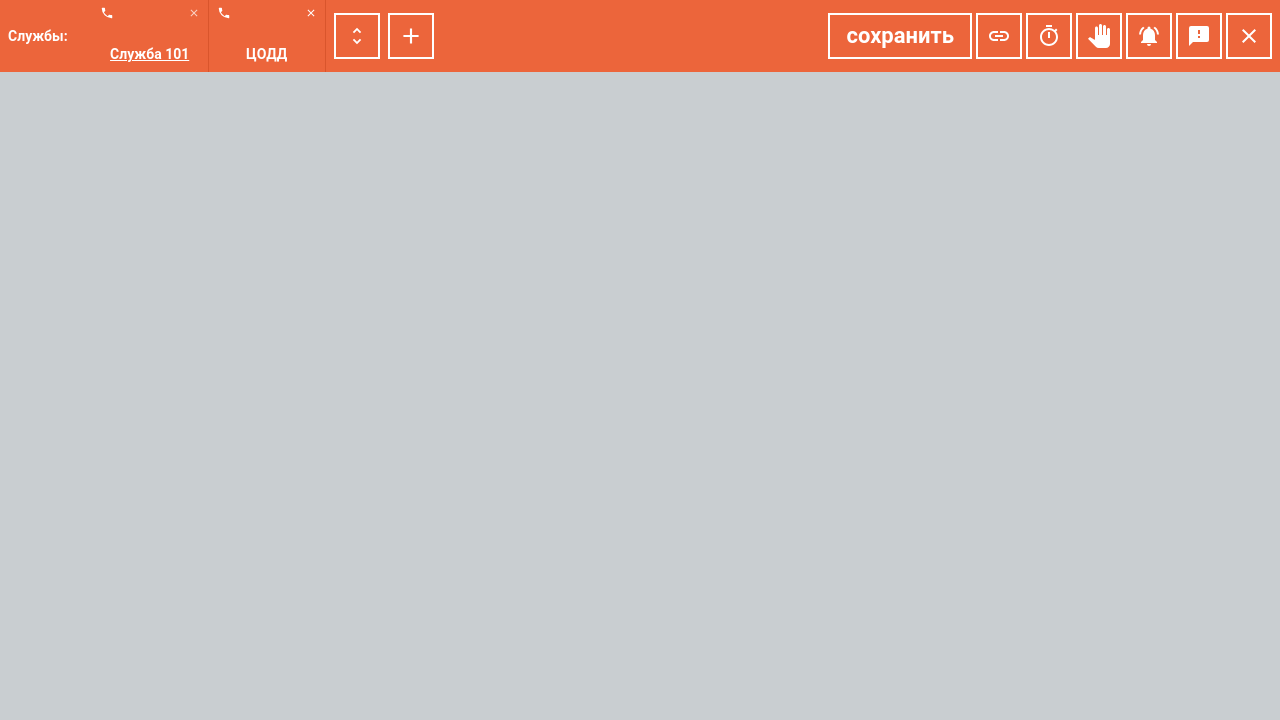
Test case: ServicesPanel › «+» → окно; «Сохранить и закрыть» передаёт выбранные службы, «×» — без изменений
Click the button named "Добавить службы".
click(411, 36)  # box [388,13,434,59]
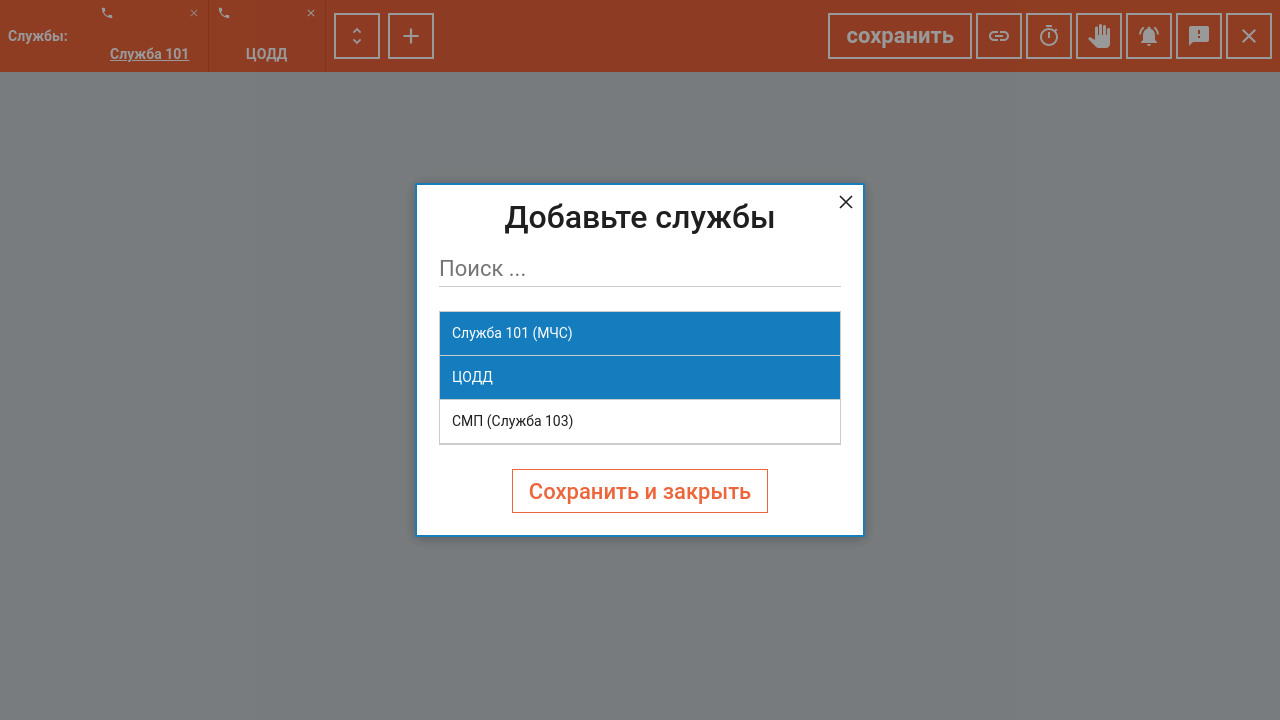
Click the button "СМП (Служба 103)".
click(513, 421)  # box [440,400,840,444]
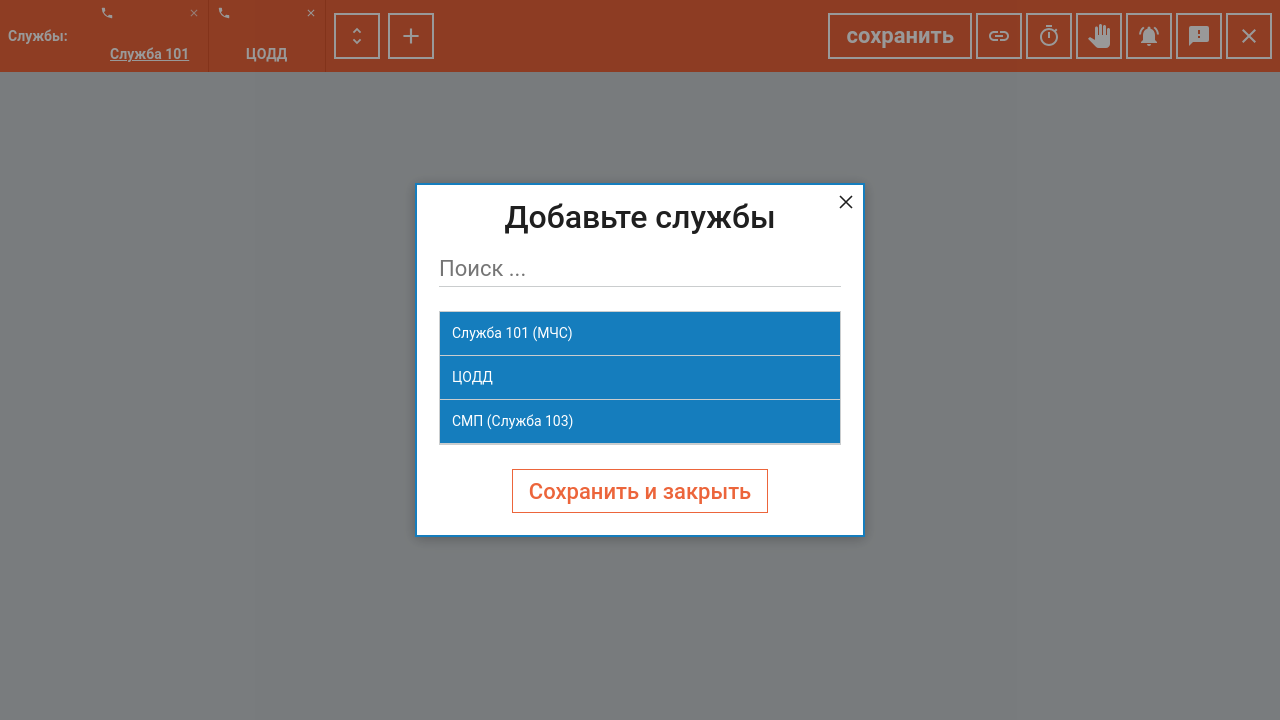
Click the button "Сохранить и закрыть".
click(640, 491)  # box [512,469,768,513]
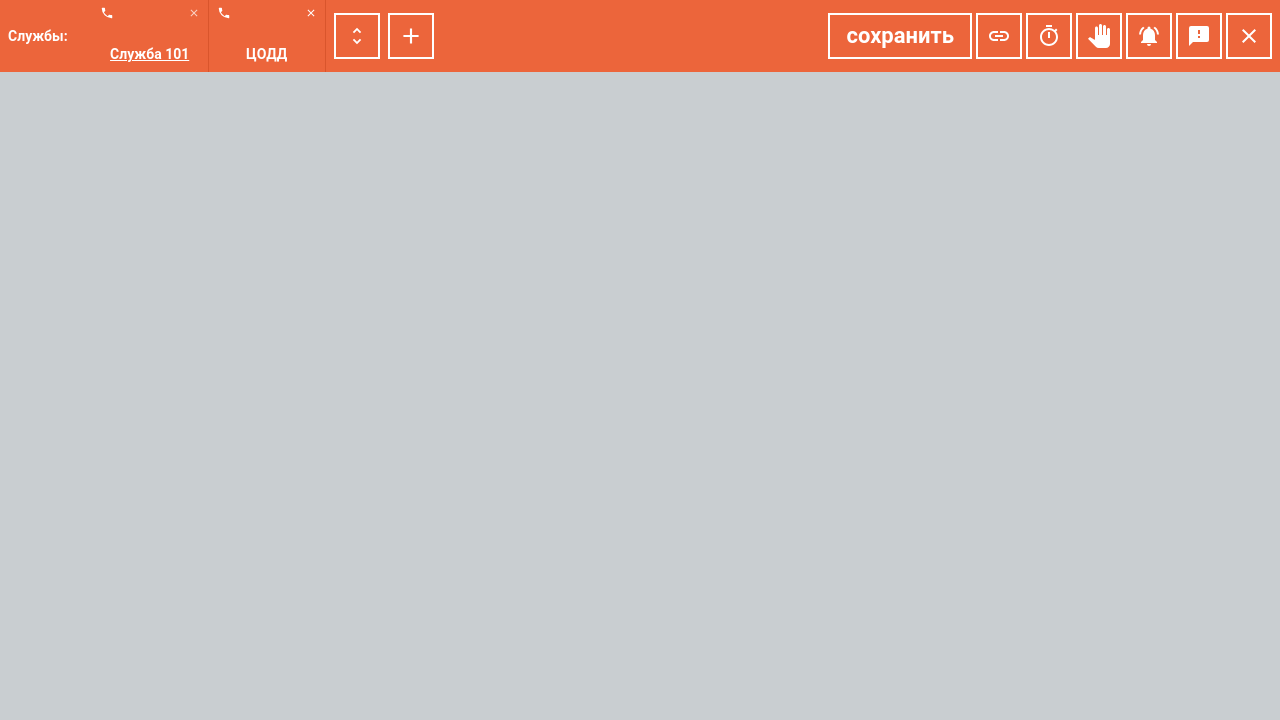
Click the button named "Добавить службы".
click(411, 36)  # box [388,13,434,59]
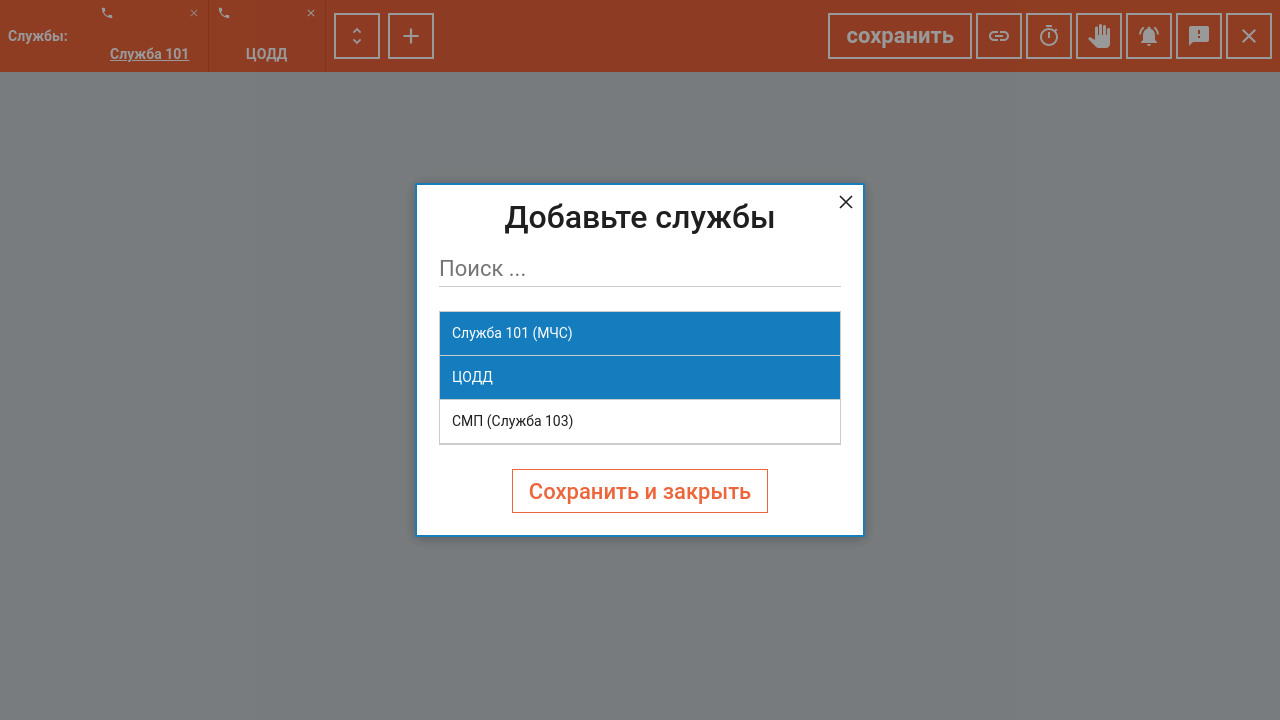
Click the button named "Закрыть (Esc)".
click(846, 202)  # box [835,191,857,213]
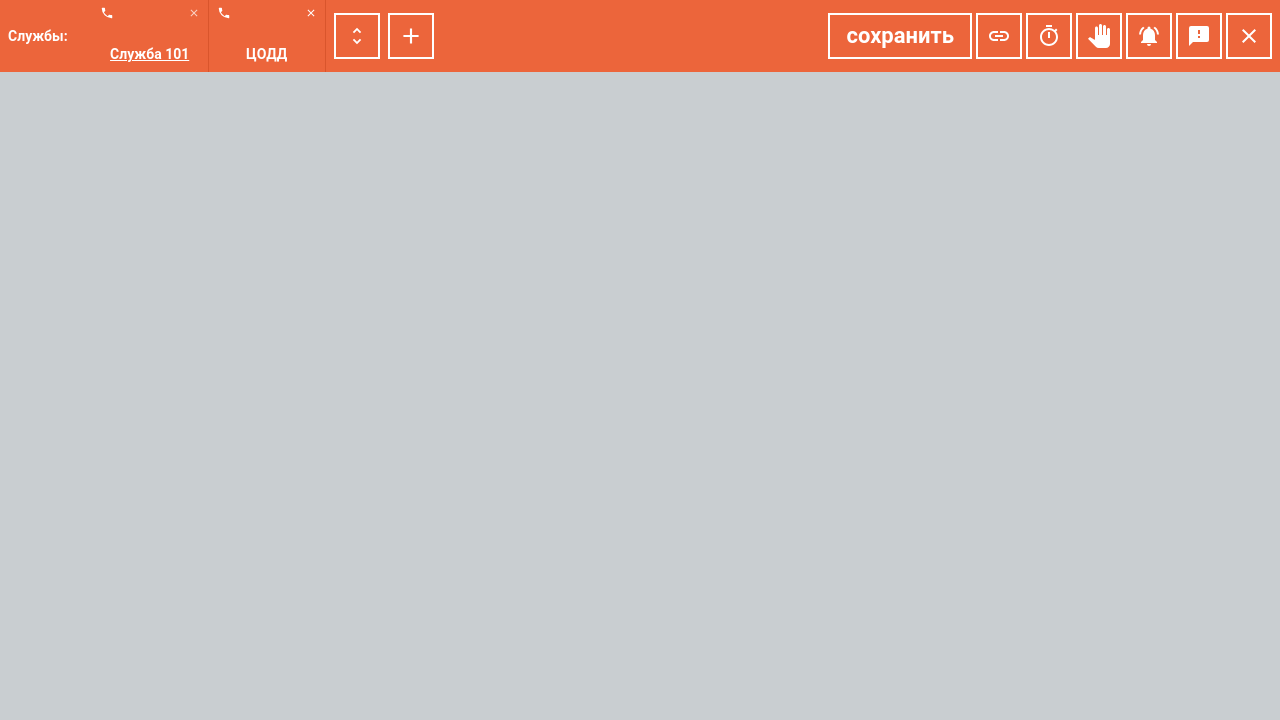
Expected: the dialog is gone
